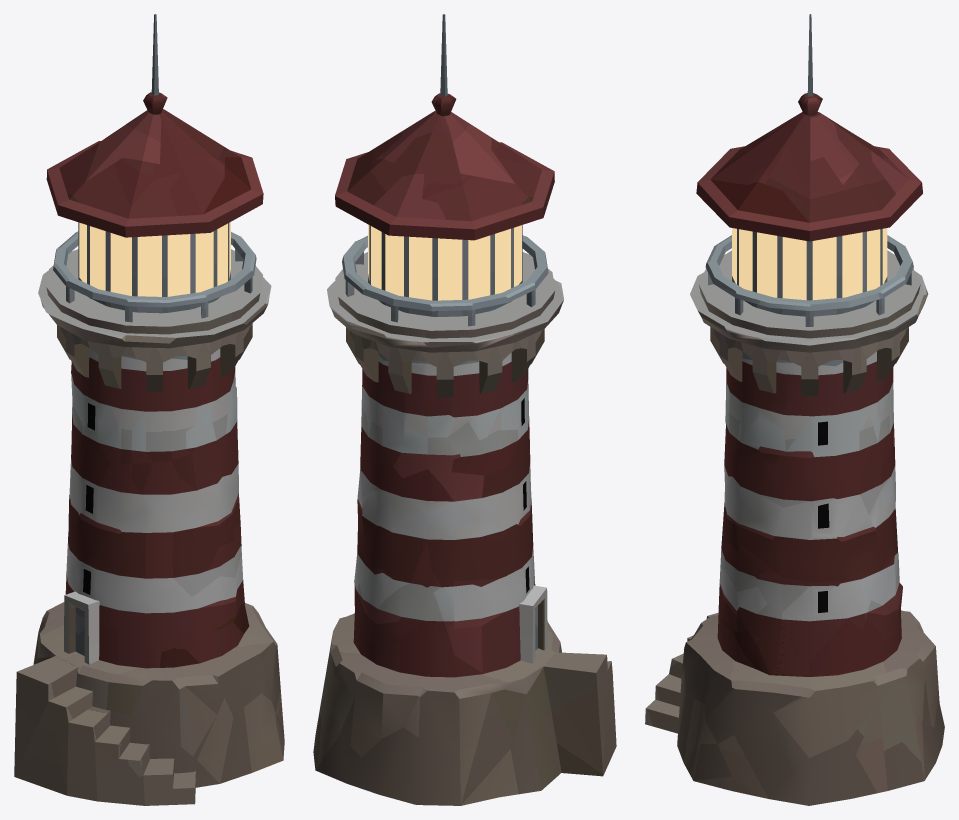
Rendered from LightHouse_tex.fbx.
3 renders of one model, left to right at view 1: azimuth 30°, elevation 25°; view 2: azimuth 150°, elevation 25°; view 3: azimuth 270°, elevation 25°, orthographic.
Visible parts, largest first — view 1: Lighthouse; view 2: Lighthouse; view 3: Lighthouse.
Part boxes in pixels (bbox=[...]): Lighthouse: bbox=[14, 14, 284, 805]; Lighthouse: bbox=[313, 14, 616, 805]; Lighthouse: bbox=[645, 14, 944, 805].
Bounding box in the file's own units: 30.19 × 77.22 × 28.63.
1 material, 1 textured.
